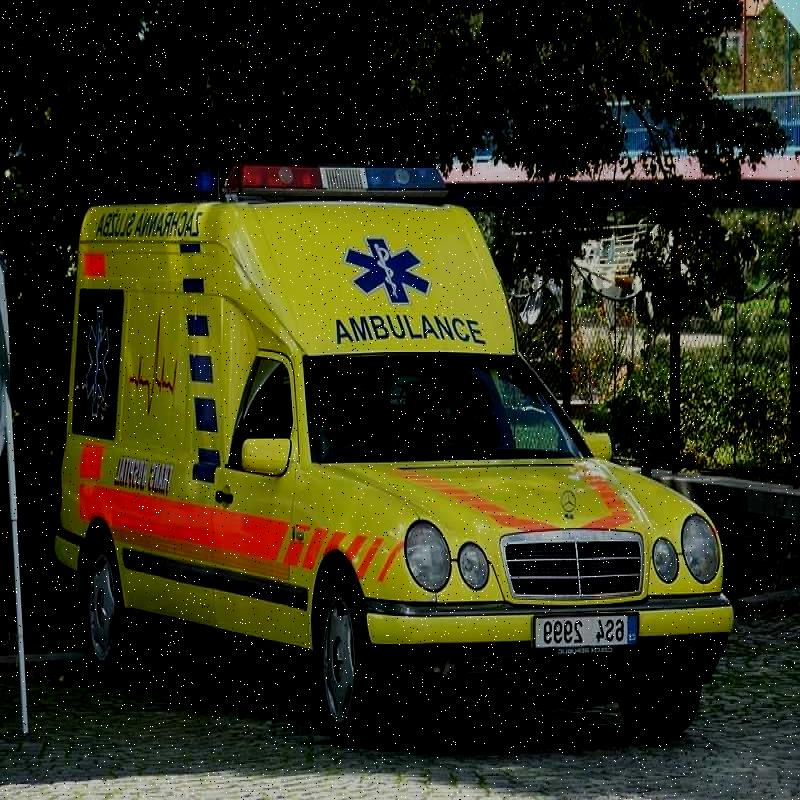AmbulanceSiren: (212, 132, 469, 224)
